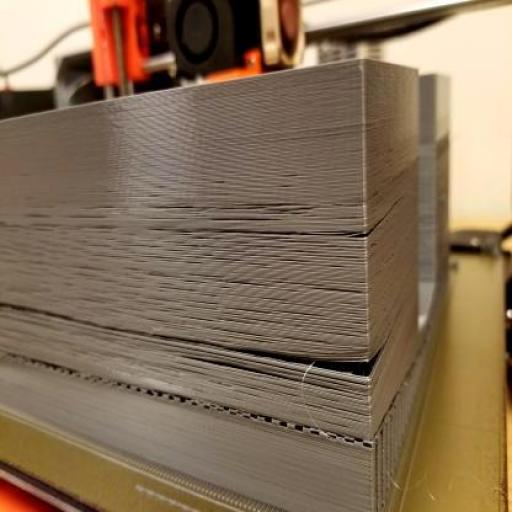cracks: (164, 293, 410, 400), (213, 186, 405, 258)
